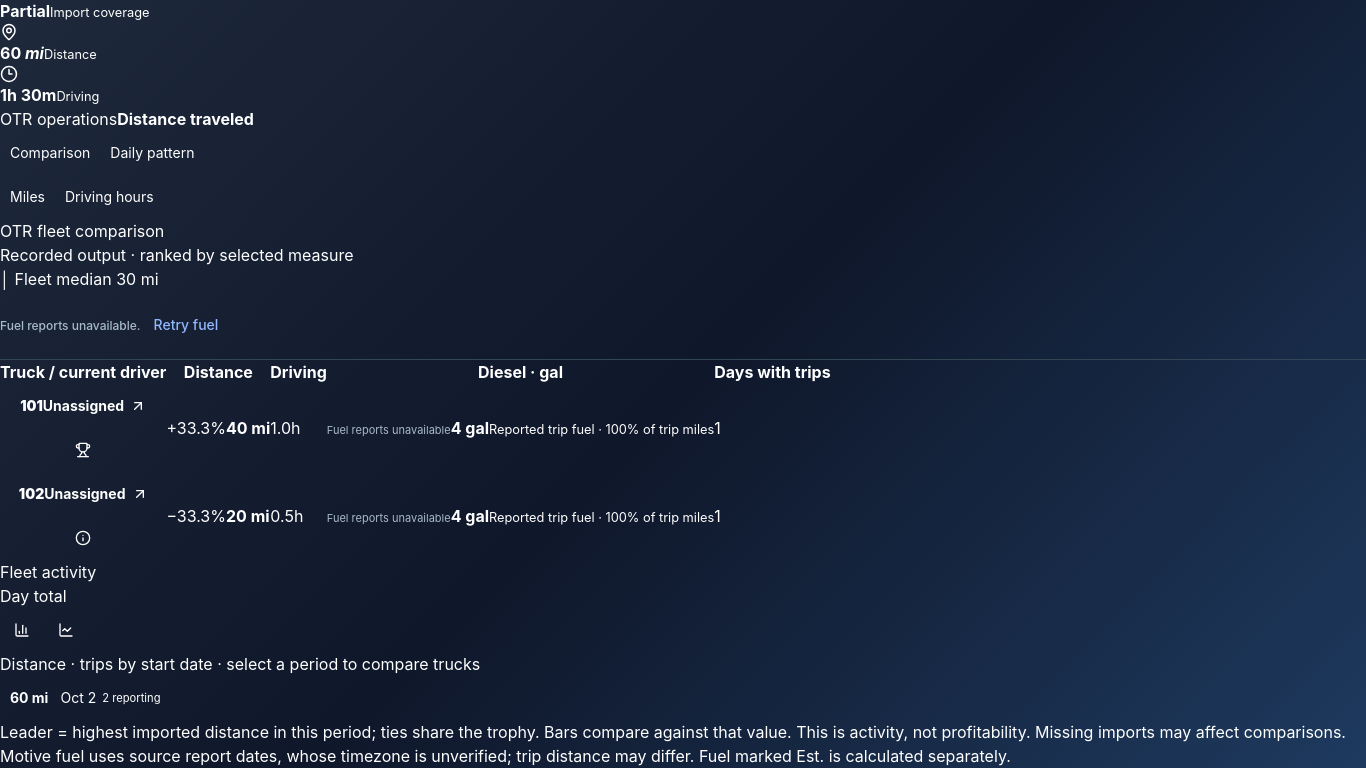
Test: OTR fleet overview › shows signed median differences and converts driving deltas to hours
(page scrolled)
Click the button named "Explain activity for Example Fleet 101".
click(83, 450)  # box [65, 428, 101, 472]
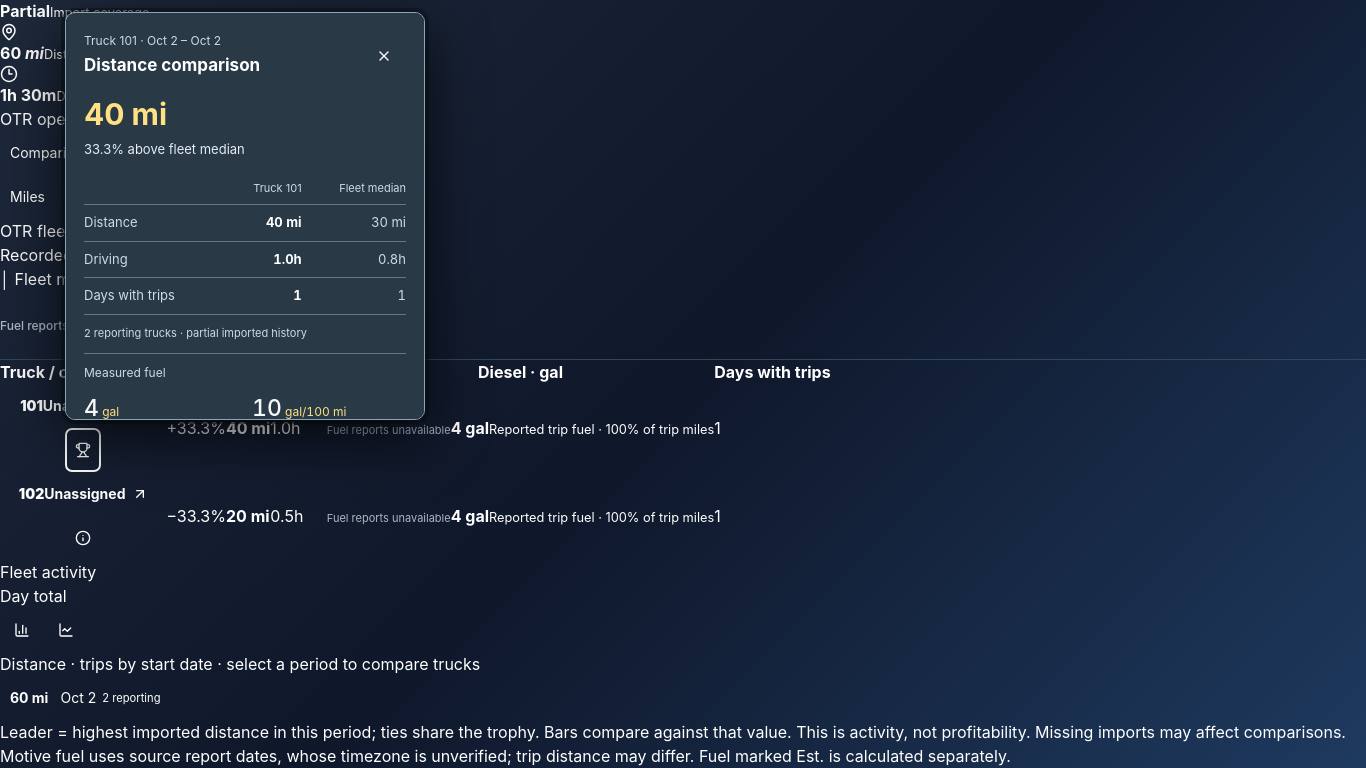
Check: the dialog shows "40 mi", box [84, 96, 167, 132]
Check: the dialog shows "33.3% above fleet median", box [84, 141, 245, 157]
Press Escape
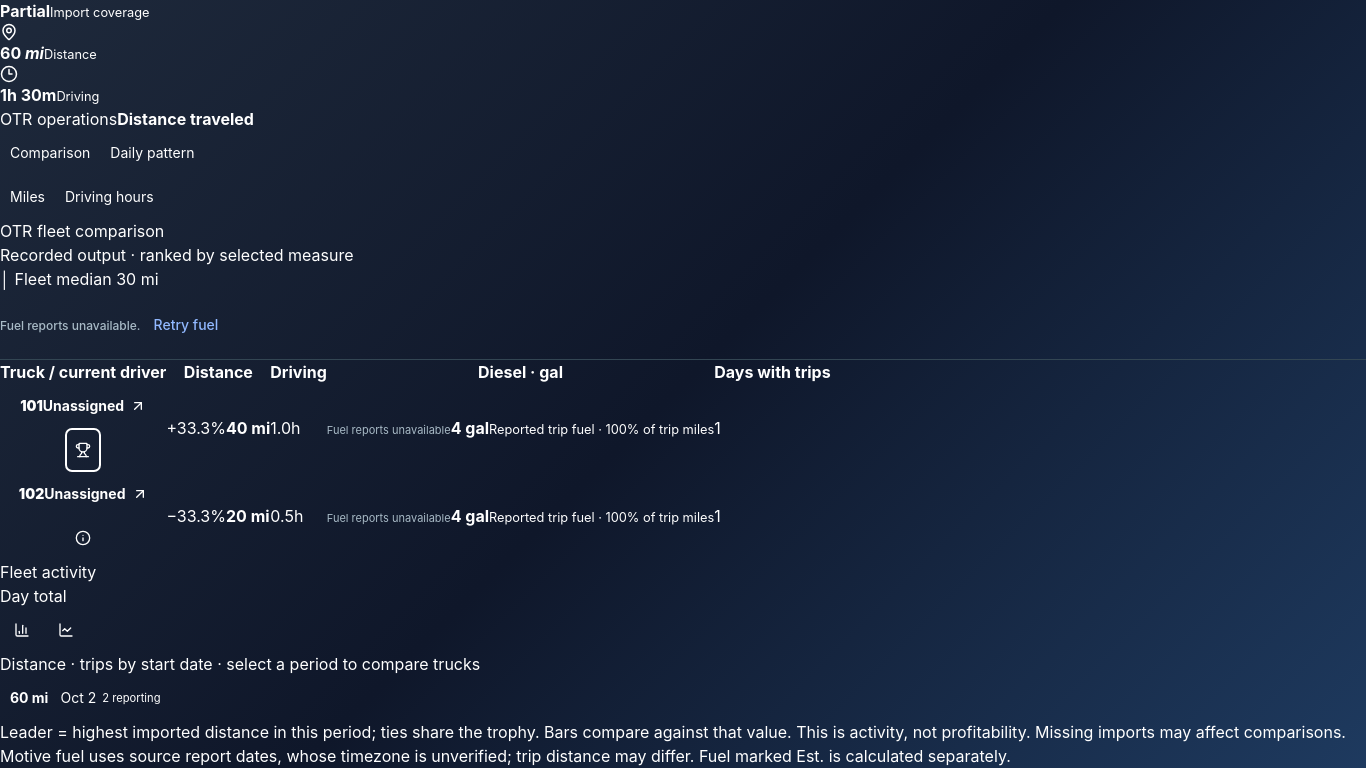
Click the button "Driving hours".
click(109, 197)  # box [55, 175, 164, 219]
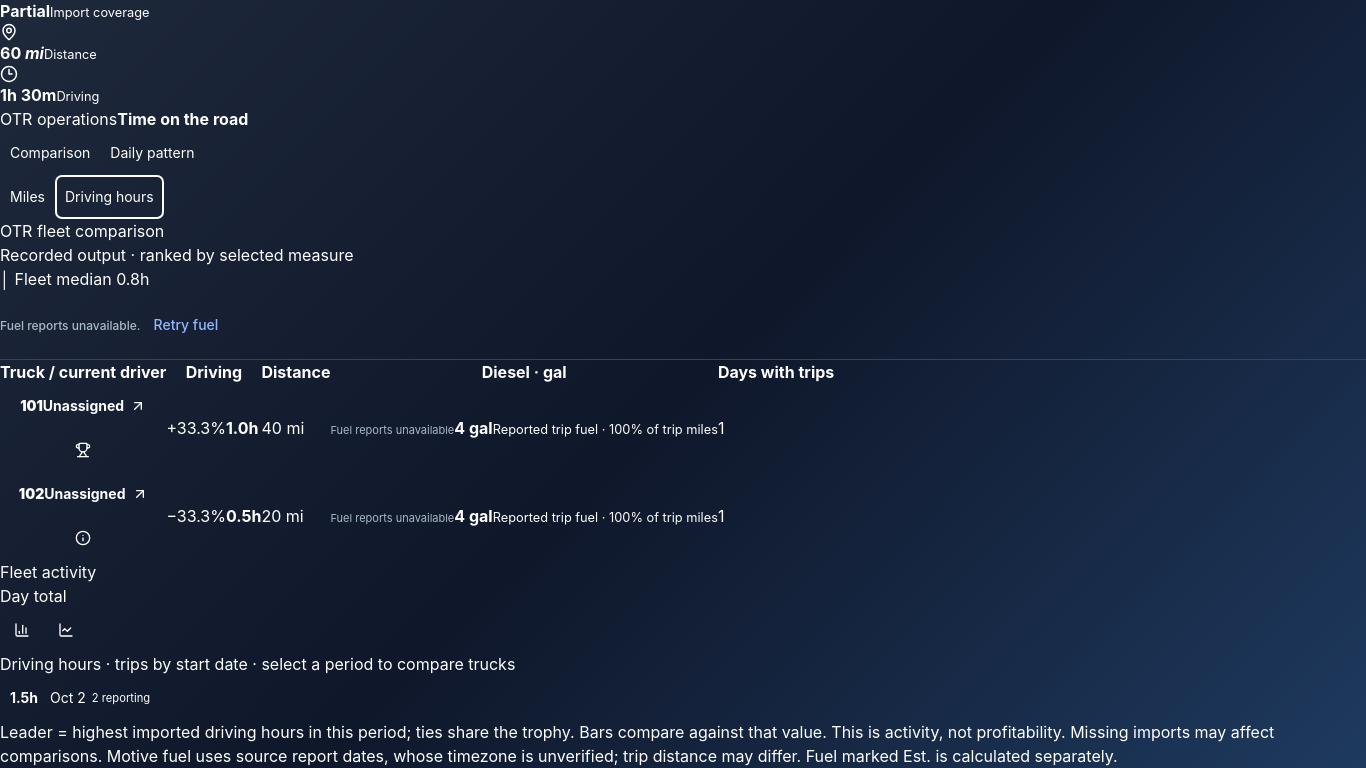
Click the button named "Explain activity for Example Fleet 102".
click(83, 538)  # box [65, 516, 101, 560]
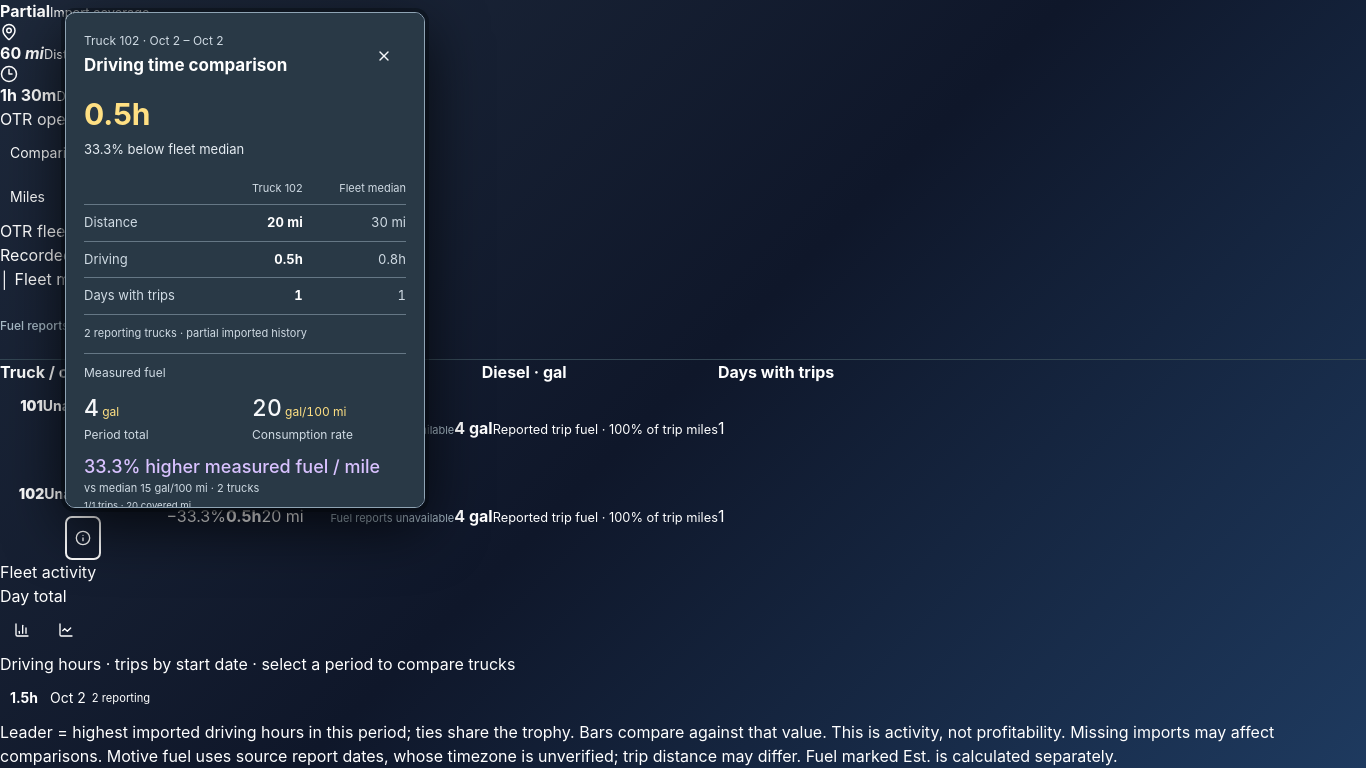
Check: the dialog shows "33.3% below fleet median", box [84, 141, 244, 157]
Check: the dialog shows "20 mi", box [65, 12, 425, 508]
